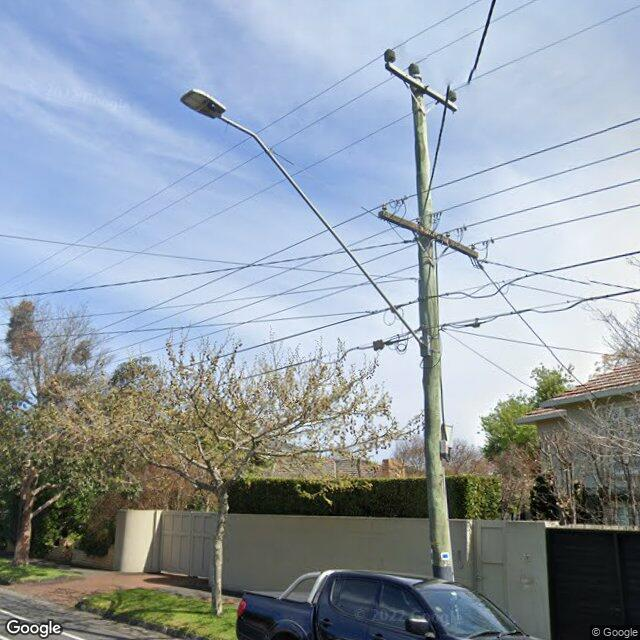HV-transmission: (384, 49, 458, 112)
crossarm: (378, 196, 494, 269), (384, 62, 458, 113)
streetlight: (180, 88, 428, 350)
timber-pole: (411, 76, 455, 582)
